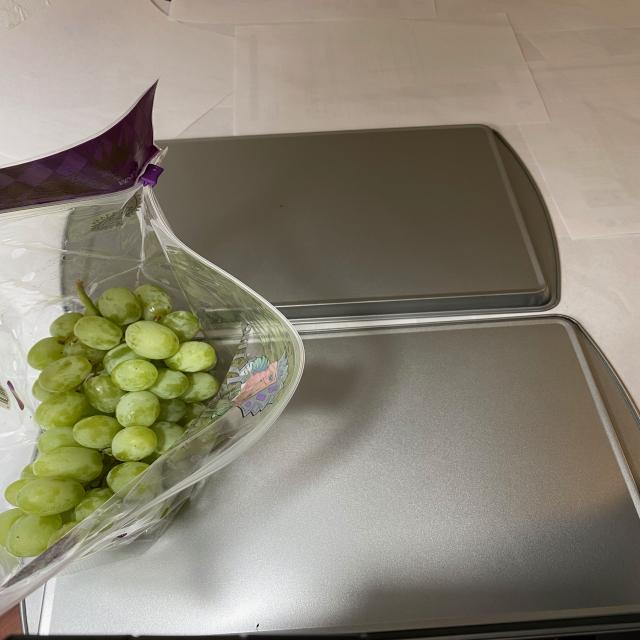grapes: (4, 269, 223, 565)
